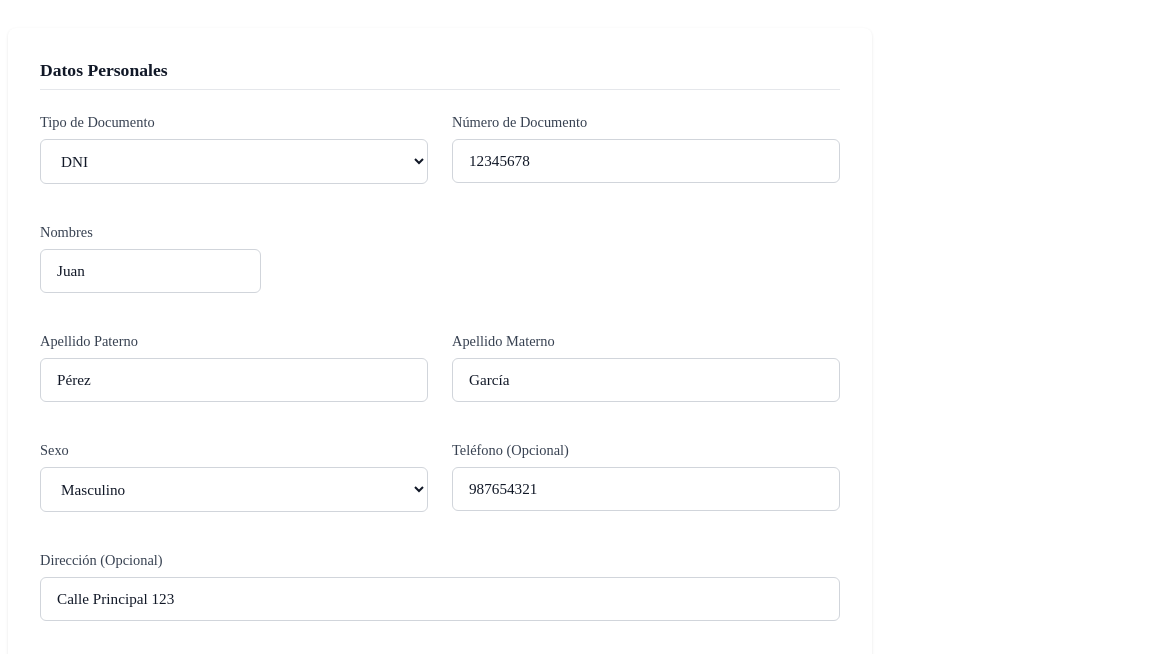
Test case: EditarClientePage - Flujo de Edición de Cliente Existente › debe rechazar teléfono < 9 dígitos y DNI < 8 dígitos
Note: Prueba 1: Teléfono con 8 dígitos (debe fallar)
Step 1. Replace the text in the field showing "987654321" with "91234567" → (646, 489), box top-left (452, 467), bottom-right (840, 511)
(page scrolled)
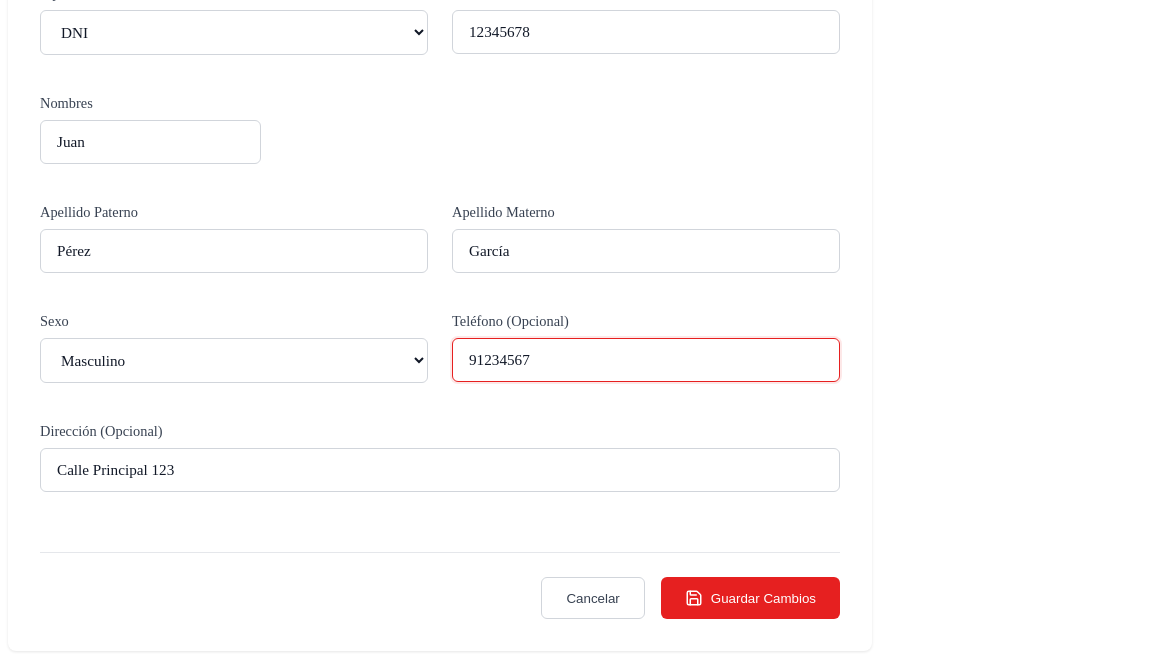
Step 2. Click the button "Guardar Cambios" → (750, 598), box top-left (661, 577), bottom-right (840, 619)
(page scrolled)
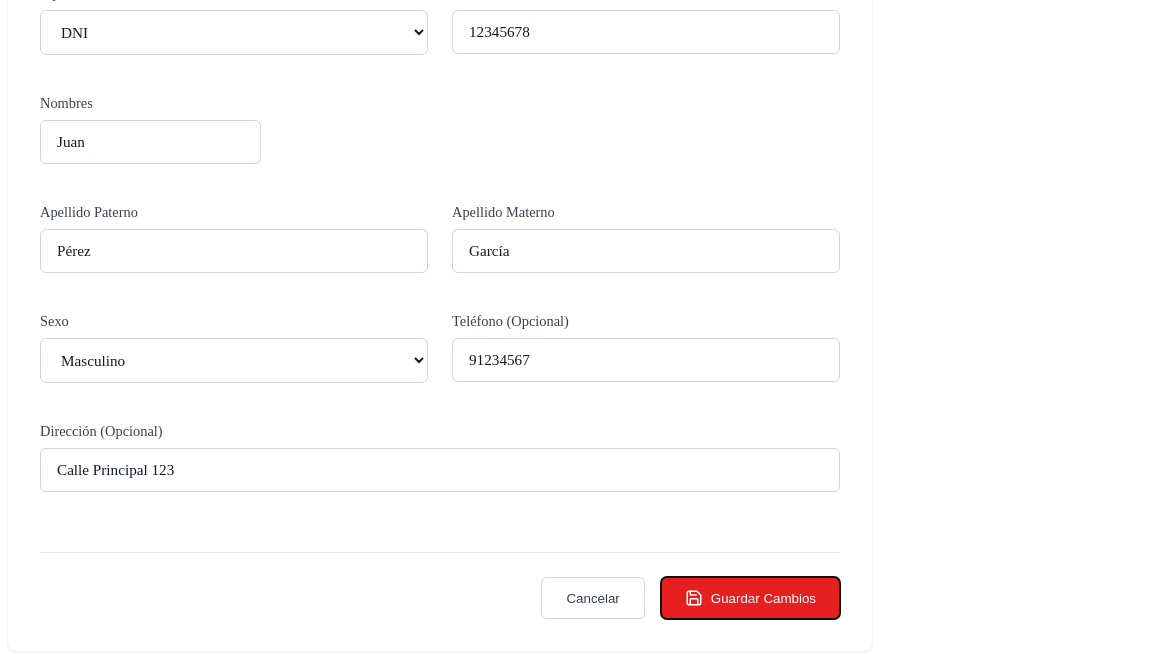
Note: Prueba 2: DNI con 7 dígitos (debe fallar)
Step 3. Replace the text in the field showing "12345678" with "1234567" → (646, 32), box top-left (452, 10), bottom-right (840, 54)
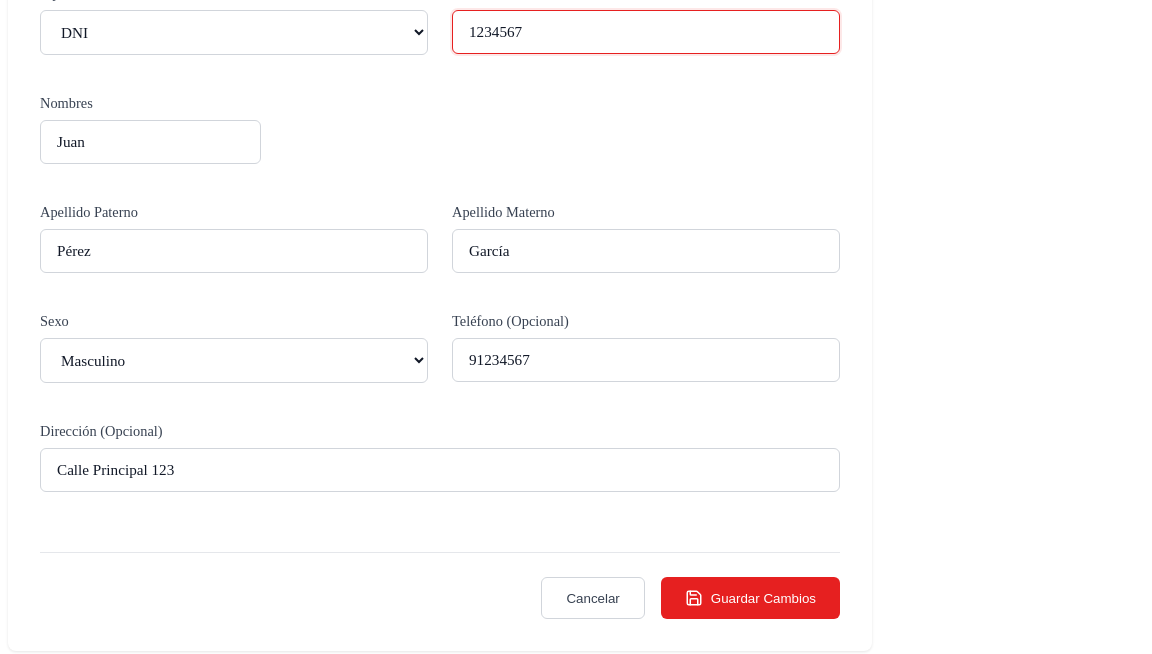
Step 4. Click the button "Guardar Cambios" → (750, 598), box top-left (661, 577), bottom-right (840, 619)
(page scrolled)
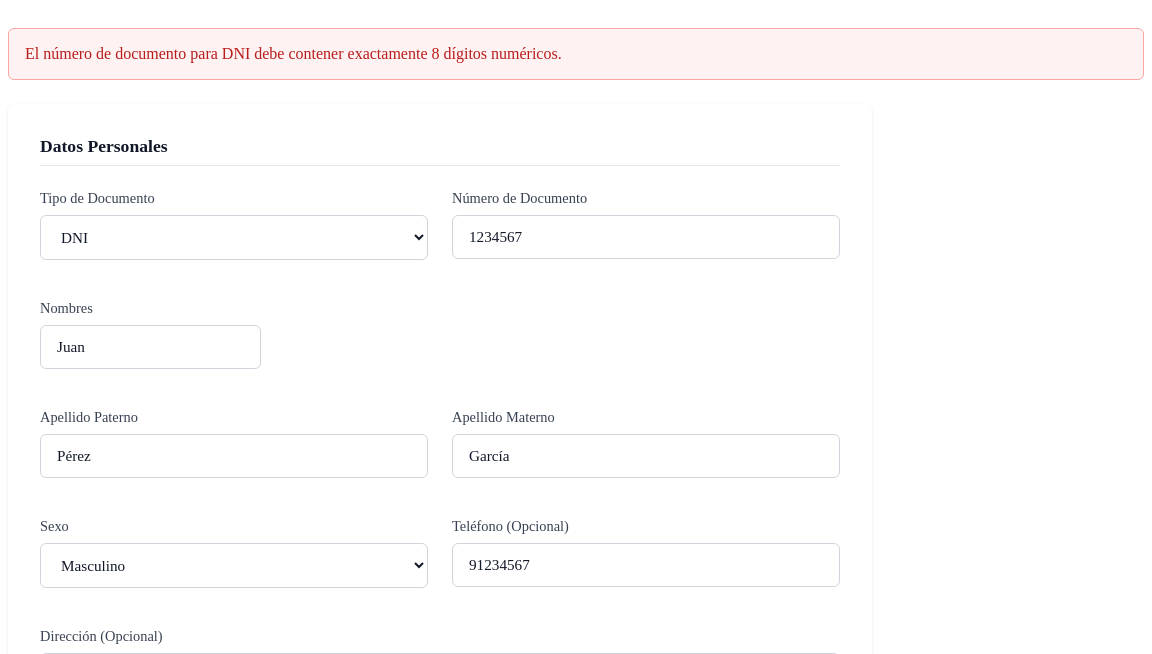
Expected: the text "El número de documento para DNI debe contener exactamente 8 dígitos numéricos" is shown, top-left (25, 45), bottom-right (562, 62)
